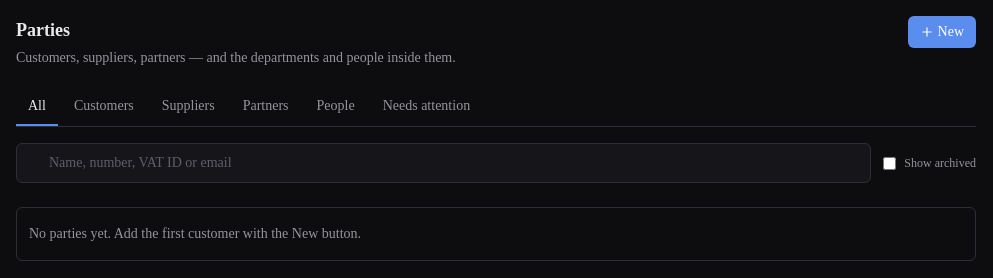
it: the list › says what is empty, and distinguishes “none” from “none matching”
Check: the text with test id "parties-empty" shows "No parties yet", box [29, 226, 361, 241]
Type "nobody" into the field named "Search parties".
click(444, 163); type("nobody")  # box [16, 143, 871, 183]
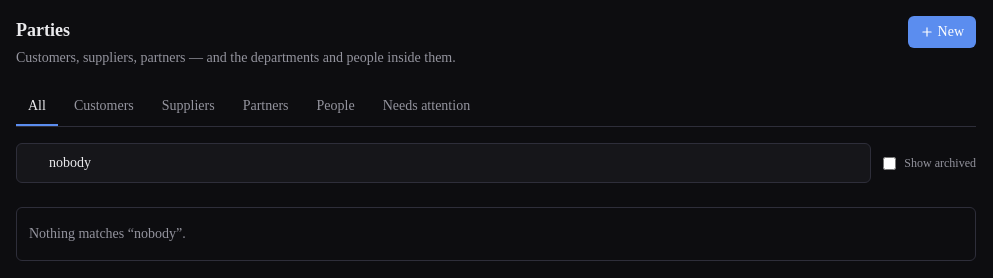
Check: the text with test id "parties-empty" shows "Nothing matches “nobody”", box [29, 226, 186, 241]
